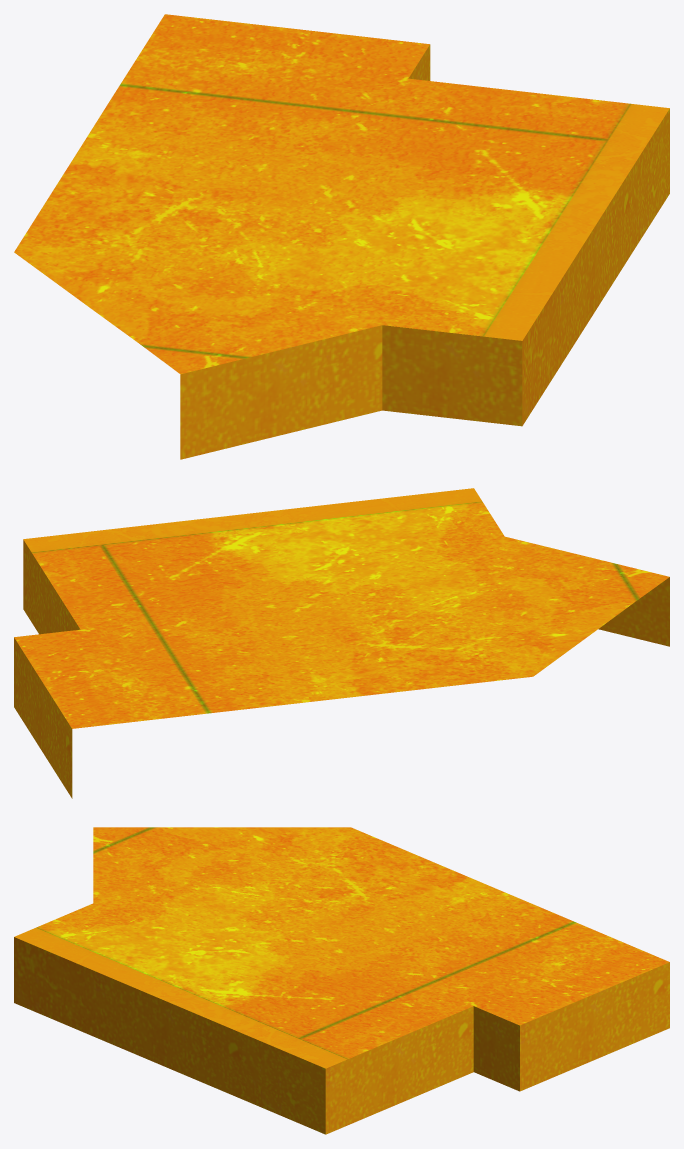
Rendered from FacilityPlatform_03_SM_Low.fbx.
The picture shows the model from 3 angles, top to bottom: view 1: azimuth 30°, elevation 25°; view 2: azimuth 150°, elevation 25°; view 3: azimuth 270°, elevation 25°; orthographic projection. The views are drawn at different scales.
Visible parts, largest first — view 1: facility_platform_03_geo; view 2: facility_platform_03_geo; view 3: facility_platform_03_geo.
Part boxes in pixels (x1=…): facility_platform_03_geo: x1=14, y1=14, x2=669, y2=459; facility_platform_03_geo: x1=14, y1=488, x2=669, y2=798; facility_platform_03_geo: x1=14, y1=827, x2=669, y2=1134.
Size of the model in its own units: 10.37 by 1.32 by 11.9.
2 materials, 2 textured.
